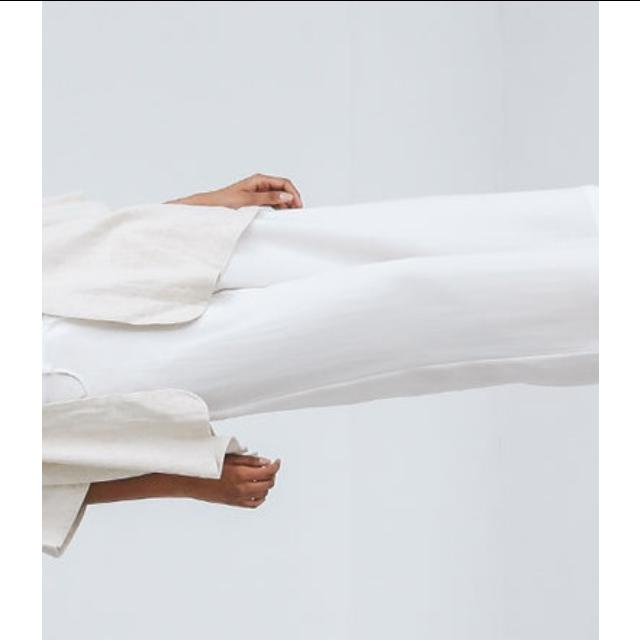linen: (41, 209, 598, 561)
